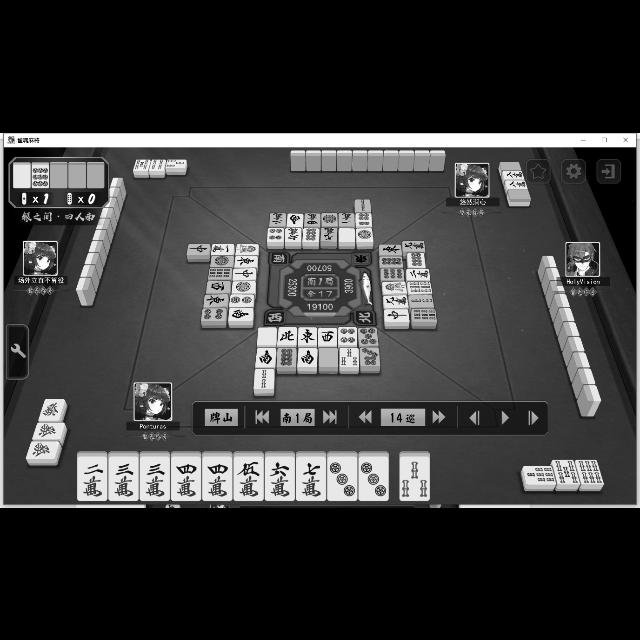1m: (211, 243, 235, 255), (339, 212, 355, 226)
1p: (231, 281, 255, 293), (210, 254, 232, 266), (356, 227, 374, 241), (322, 212, 338, 226)
1s: (382, 281, 406, 293), (236, 242, 258, 254)
2m: (77, 457, 106, 501), (406, 268, 430, 280), (270, 212, 286, 226)
2p: (228, 294, 254, 306)
2s: (254, 368, 274, 388), (408, 294, 434, 308), (356, 198, 370, 212)
3m: (140, 456, 170, 500), (109, 456, 138, 500)
3p: (328, 456, 358, 500), (358, 456, 388, 500)
3s: (400, 457, 430, 501), (339, 347, 358, 365), (166, 159, 188, 167)
4m: (171, 456, 201, 500), (203, 456, 233, 500), (305, 212, 321, 226)
4p: (339, 326, 357, 346), (202, 308, 226, 320), (267, 227, 283, 241)
4s: (150, 158, 164, 170)
5m: (234, 456, 264, 499)
5p: (358, 327, 378, 345)
5s: (552, 459, 580, 483), (134, 158, 150, 170)
6m: (266, 456, 294, 500), (285, 226, 301, 242)
6p: (356, 212, 372, 226)
6s: (576, 460, 602, 482), (407, 280, 433, 294)
7m: (296, 456, 326, 500)
7p: (361, 346, 379, 366)
7s: (522, 464, 556, 484)
8m: (504, 180, 528, 188), (503, 170, 525, 178)
8p: (276, 348, 296, 366), (408, 252, 424, 266), (380, 256, 402, 266), (303, 228, 319, 240)
9m: (383, 294, 409, 308), (403, 241, 425, 251), (322, 227, 336, 240)
9p: (32, 165, 48, 188), (381, 268, 404, 280)
9s: (208, 266, 232, 280), (412, 308, 436, 320)
chun: (384, 308, 410, 322), (233, 268, 257, 280), (187, 242, 210, 254)
haku: (318, 347, 338, 367), (14, 164, 31, 186), (258, 326, 276, 346), (339, 227, 355, 241)
hatsu: (37, 398, 64, 420), (27, 441, 58, 459), (33, 422, 65, 438)
nan: (255, 348, 275, 367), (298, 346, 316, 366), (228, 306, 252, 320), (286, 212, 304, 225)
pe: (278, 326, 296, 344)
sha: (319, 327, 336, 345), (206, 280, 230, 292)
tou: (205, 294, 228, 306), (300, 328, 316, 344), (380, 243, 402, 254), (235, 256, 258, 266)
